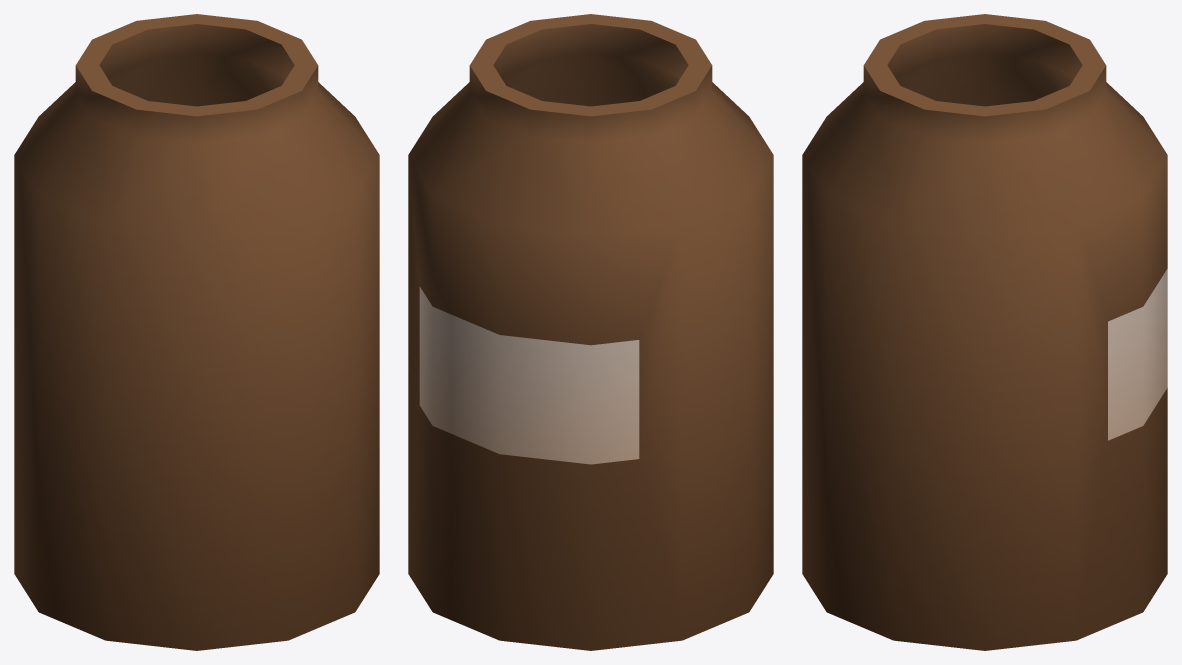
File: JarOpaque1.fbx
3 views of the same model, side by side, from view 1: azimuth 30°, elevation 25°; view 2: azimuth 150°, elevation 25°; view 3: azimuth 270°, elevation 25° (orthographic).
Visible parts, largest first — view 1: JarOpaque1; view 2: JarOpaque1; view 3: JarOpaque1.
Boxes of the visible parts, box(x1,y1,x2,y2) form: JarOpaque1: box(14, 14, 379, 650); JarOpaque1: box(408, 14, 773, 650); JarOpaque1: box(802, 14, 1167, 650).
Size of the model in its own units: 10.56 by 16.2 by 10.56.
